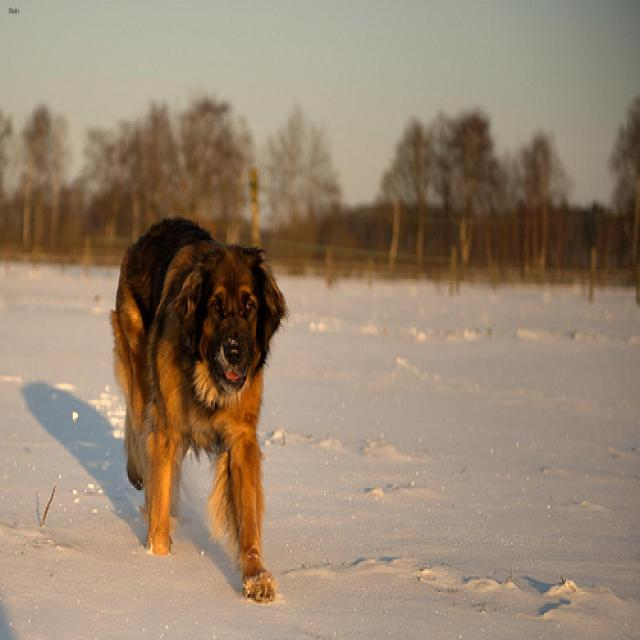dog-leonberger: (102, 202, 296, 617)
